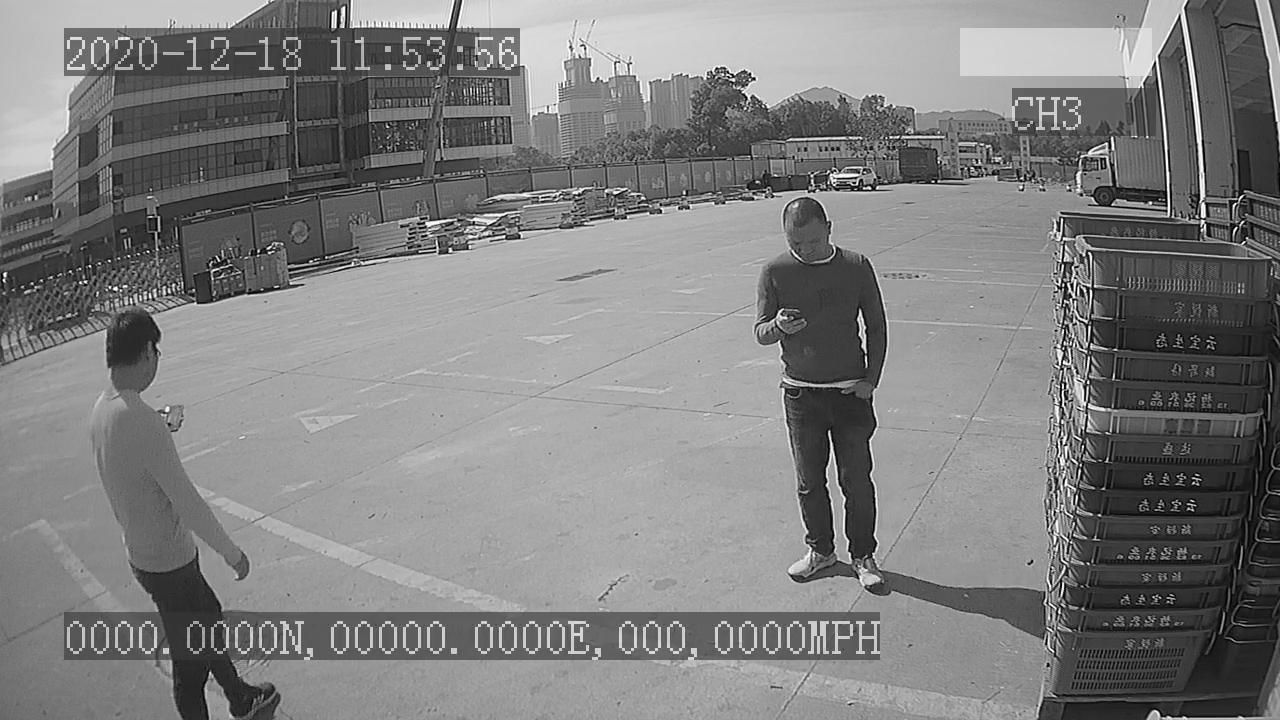person: (749, 194, 892, 599)
